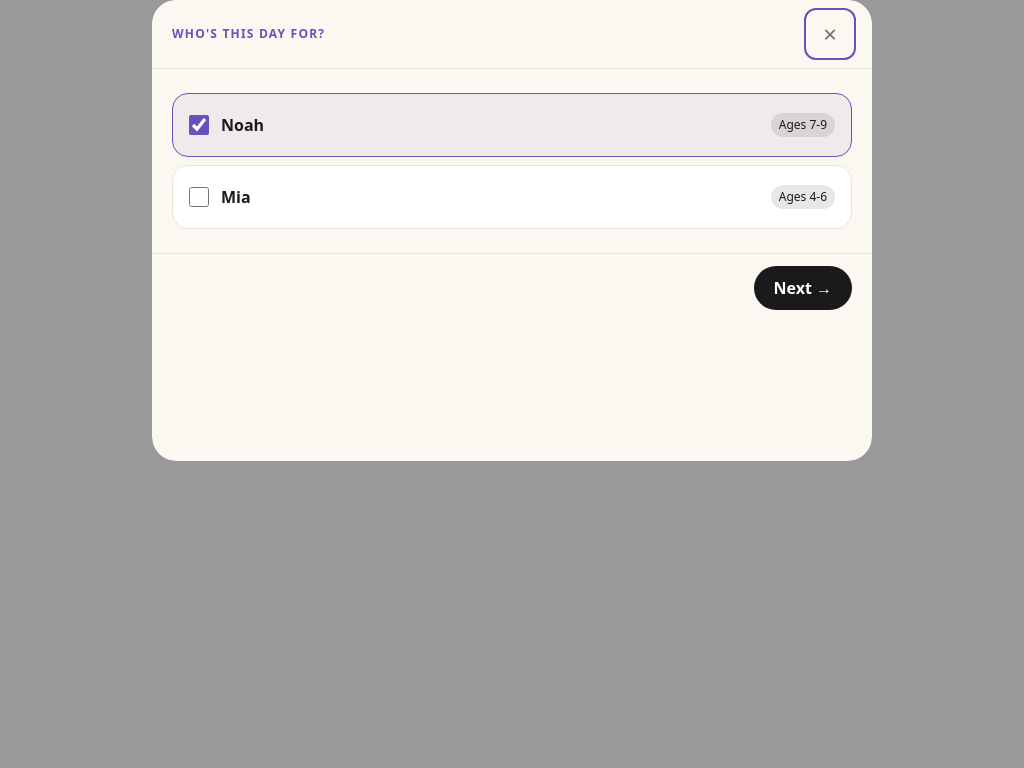
Test case: PlanThisDayWizard › advances from screen 1 → 2 → 3 on Next clicks
The image size is (1024, 768).
// Screen 1 → Screen 2
Click the button "Next →". click: (803, 288)
box: [754,266,852,310]
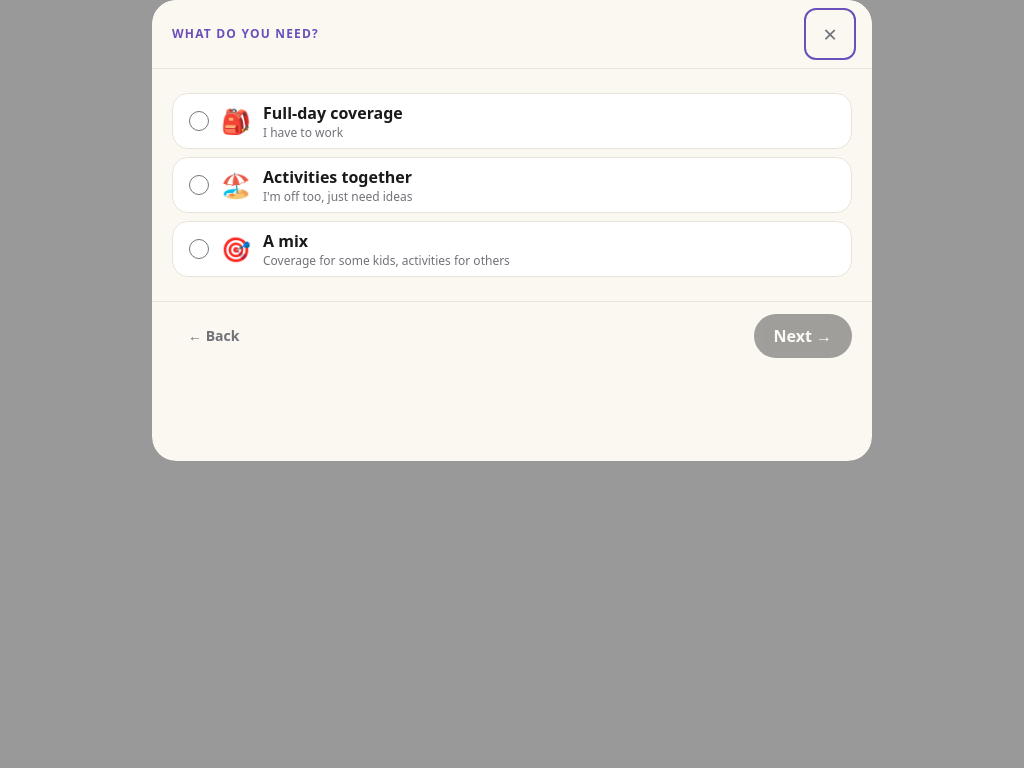
Now the text "Full-day coverage" is shown, box [263,102,403,124]
// Pick a plan type
Click the radio button labelled "🎒 Full-day coverage I have to work". click: (199, 121)
box: [189,111,209,131]
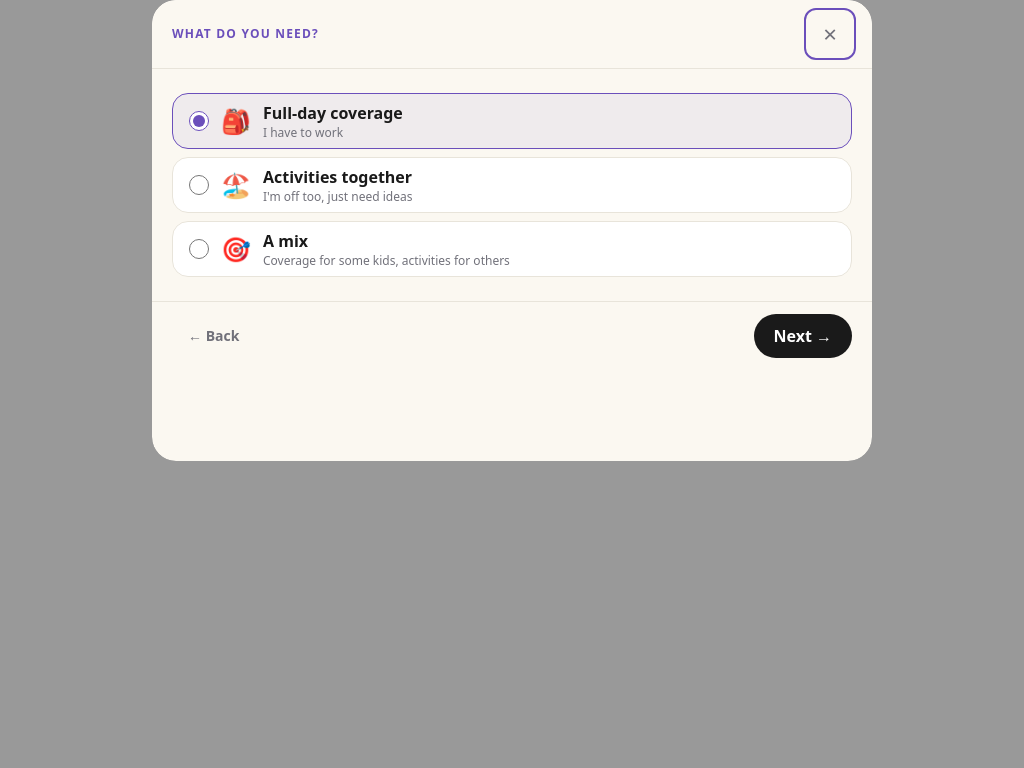
// Screen 2 → Screen 3
Click the button "Next →". click: (803, 336)
box: [754,314,852,358]
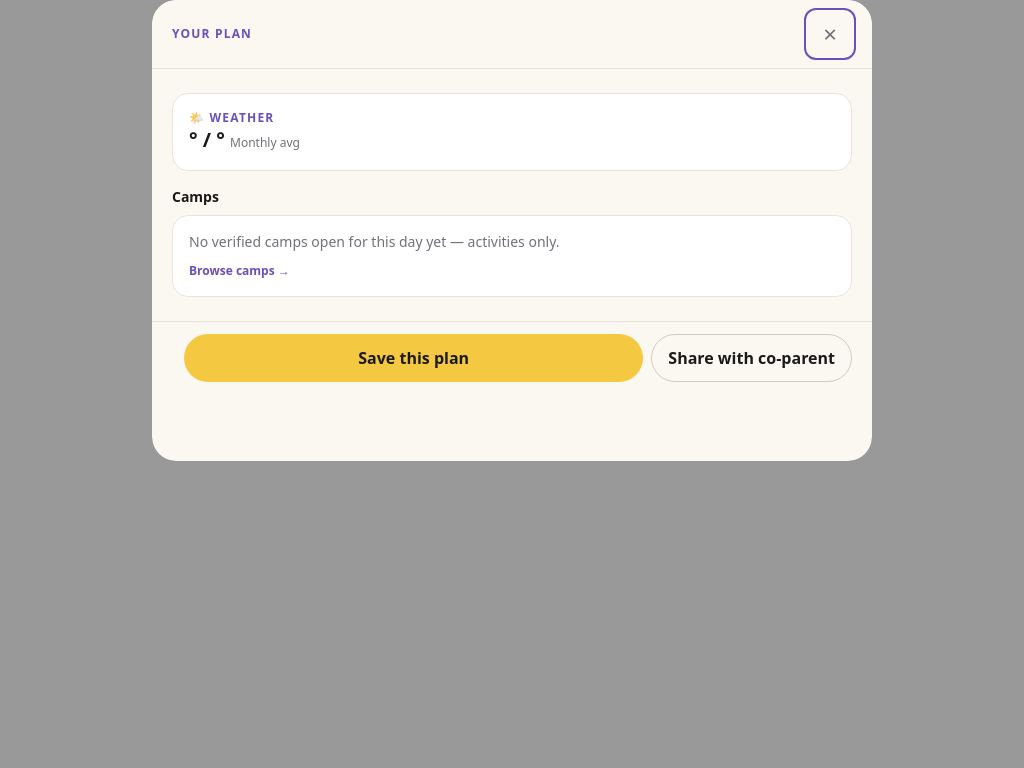
Now the heading "Camps" is shown, box [172,187,219,206]
